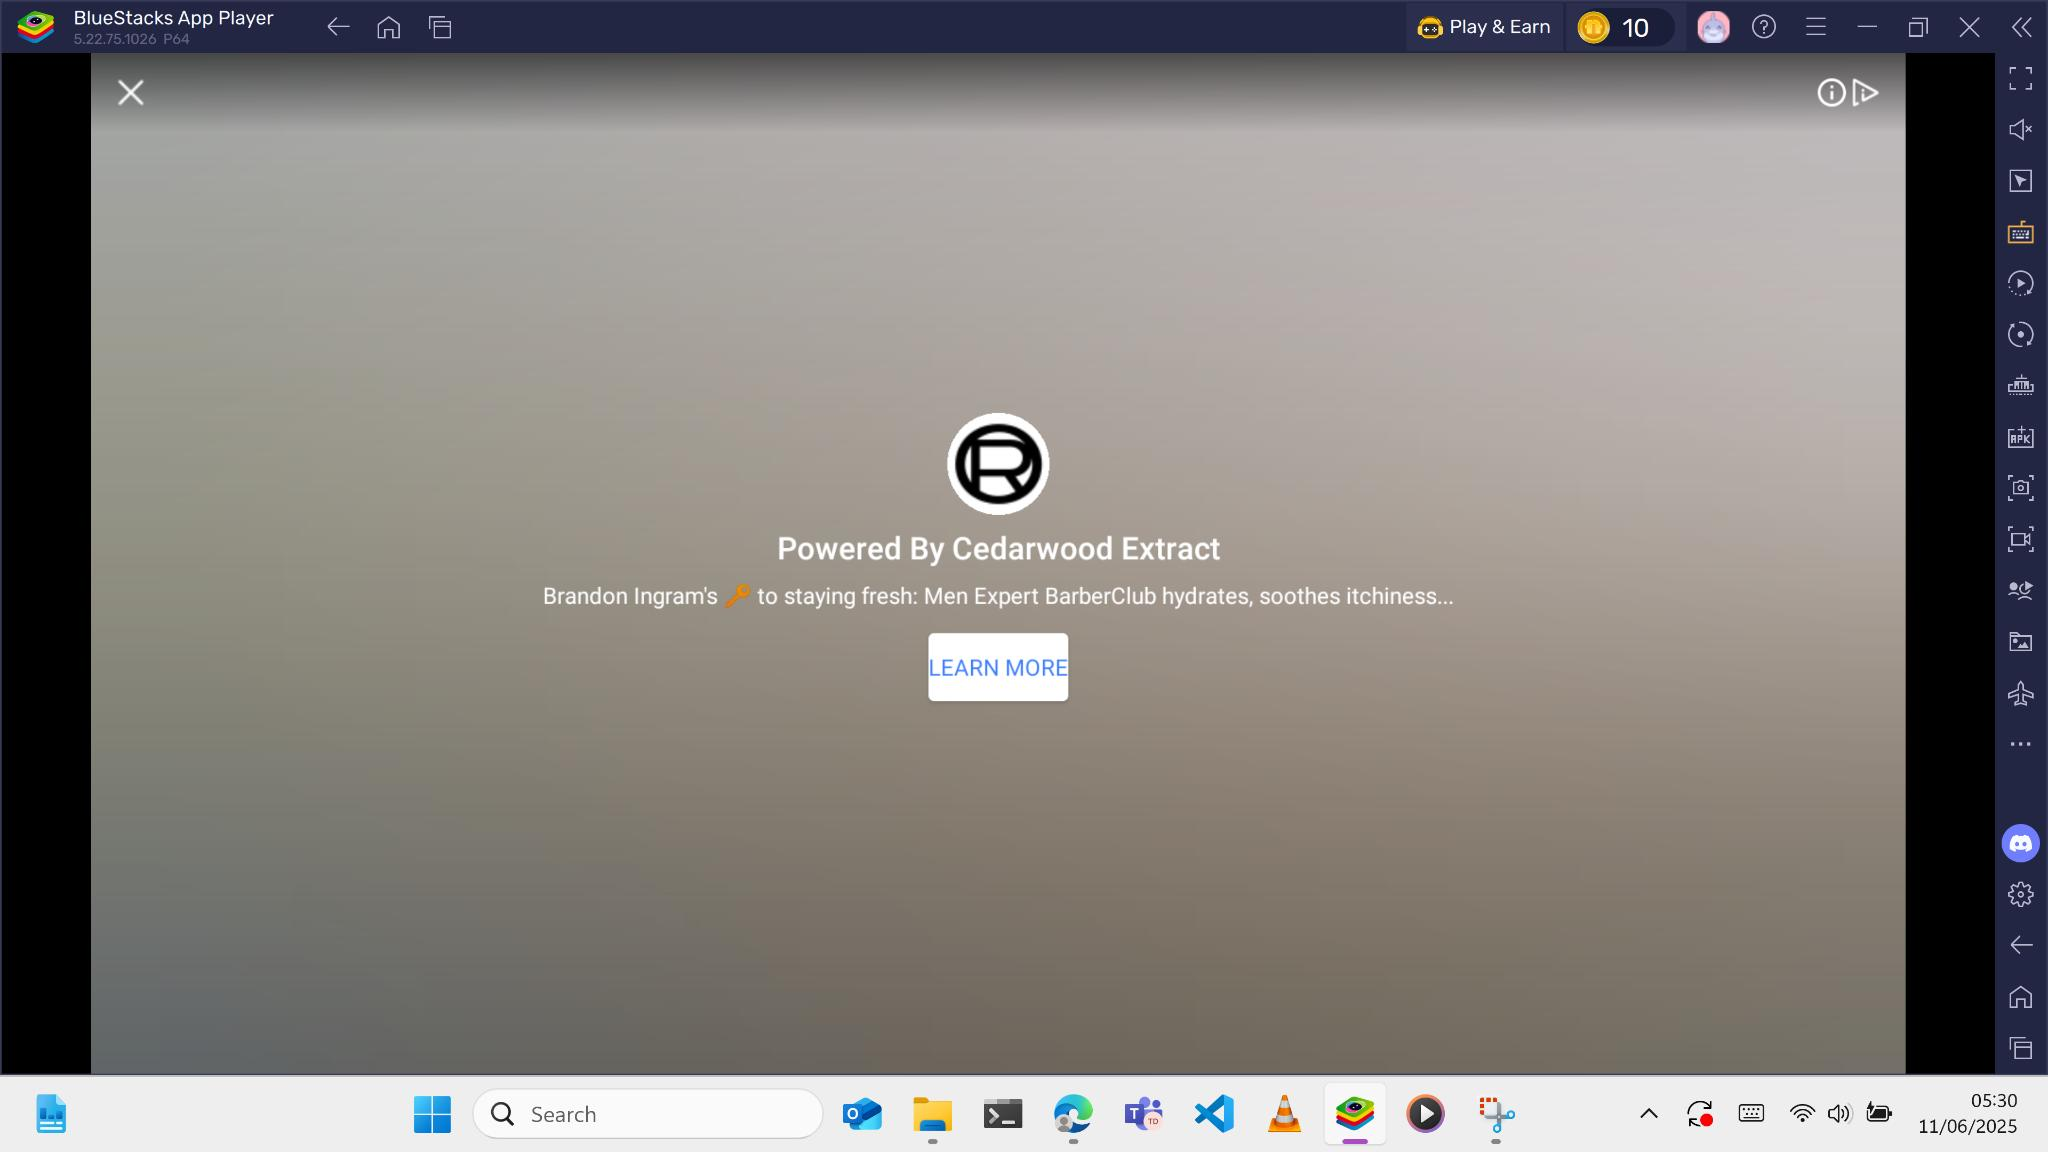close_ad: (117, 79, 145, 107)
